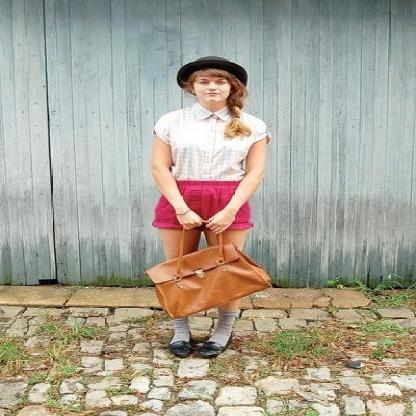bag: (146, 241, 270, 318)
hat: (177, 60, 246, 86)
shirt: (154, 98, 270, 180)
shoe: (158, 333, 225, 360)
shorts: (152, 178, 253, 230)
